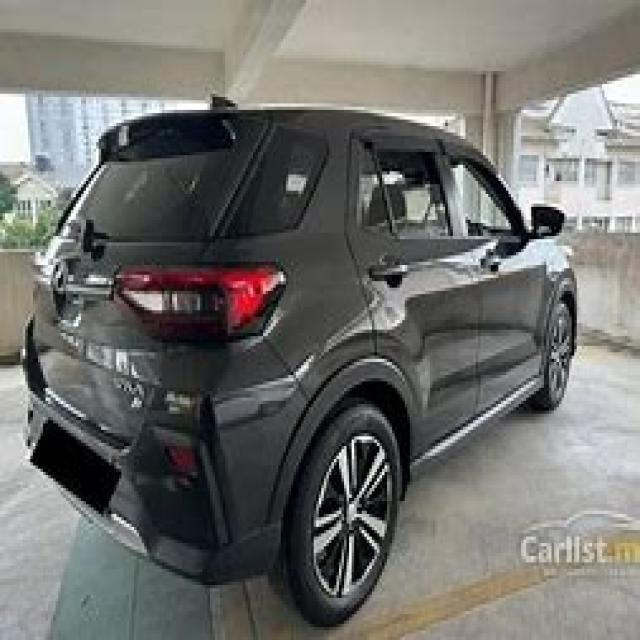PeroduaAtiva: (18, 100, 579, 627)
